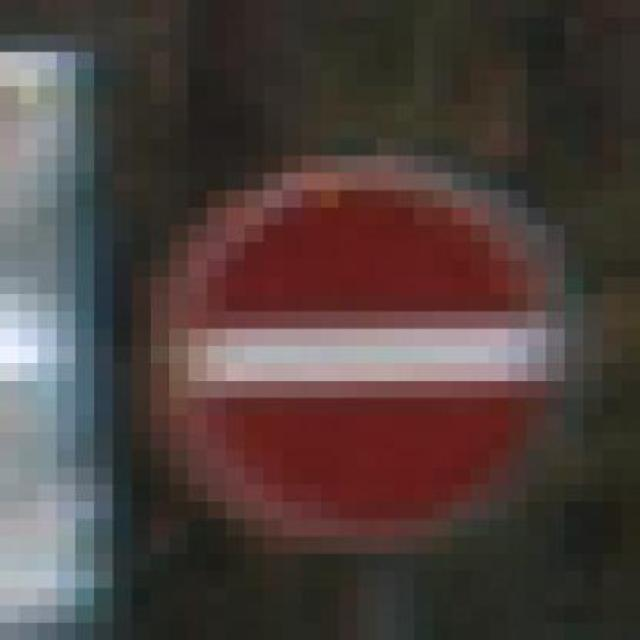B2: (167, 171, 568, 547)
